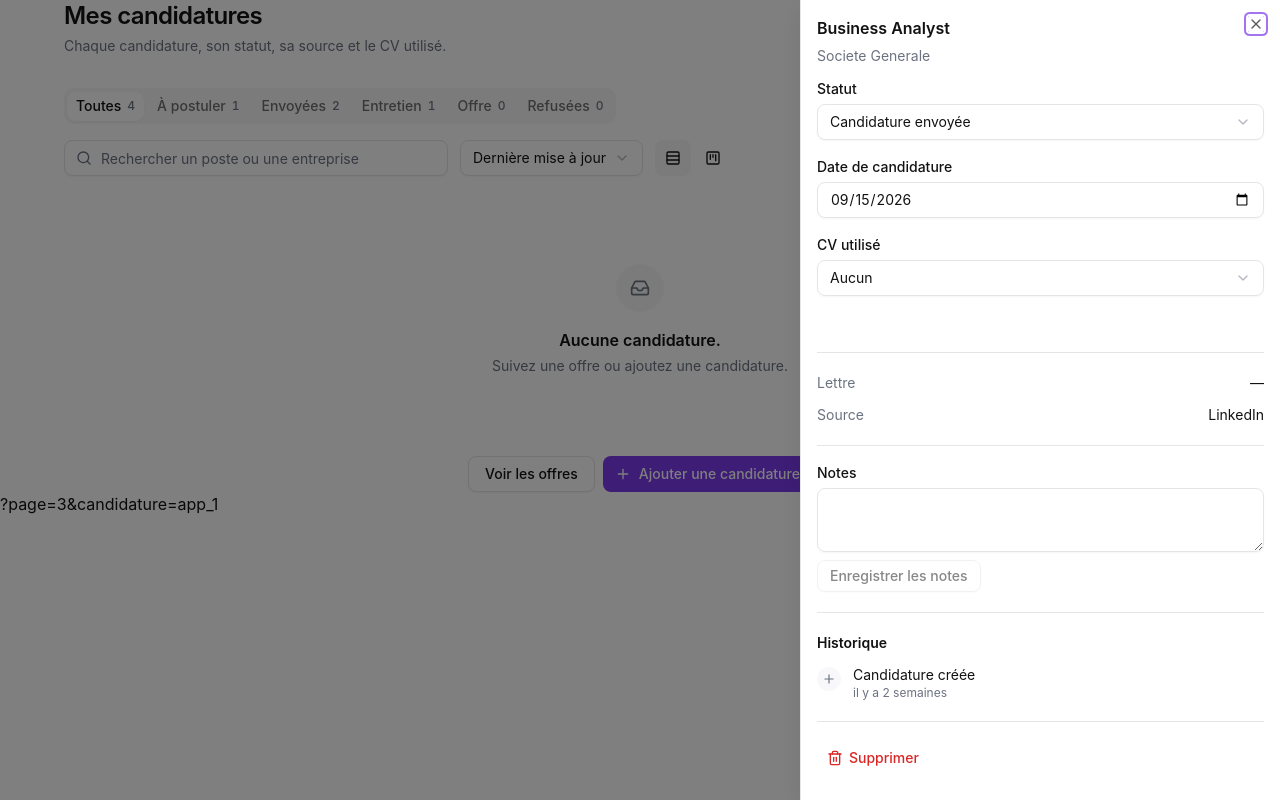
Test: ApplicationsPage › la page consultee est conservee en refermant le panneau de detail
Expected: the heading "Business Analyst" is shown, [817,18,950,38]
Click the button named "Fermer": click(1256, 24) [1248,16,1264,32]
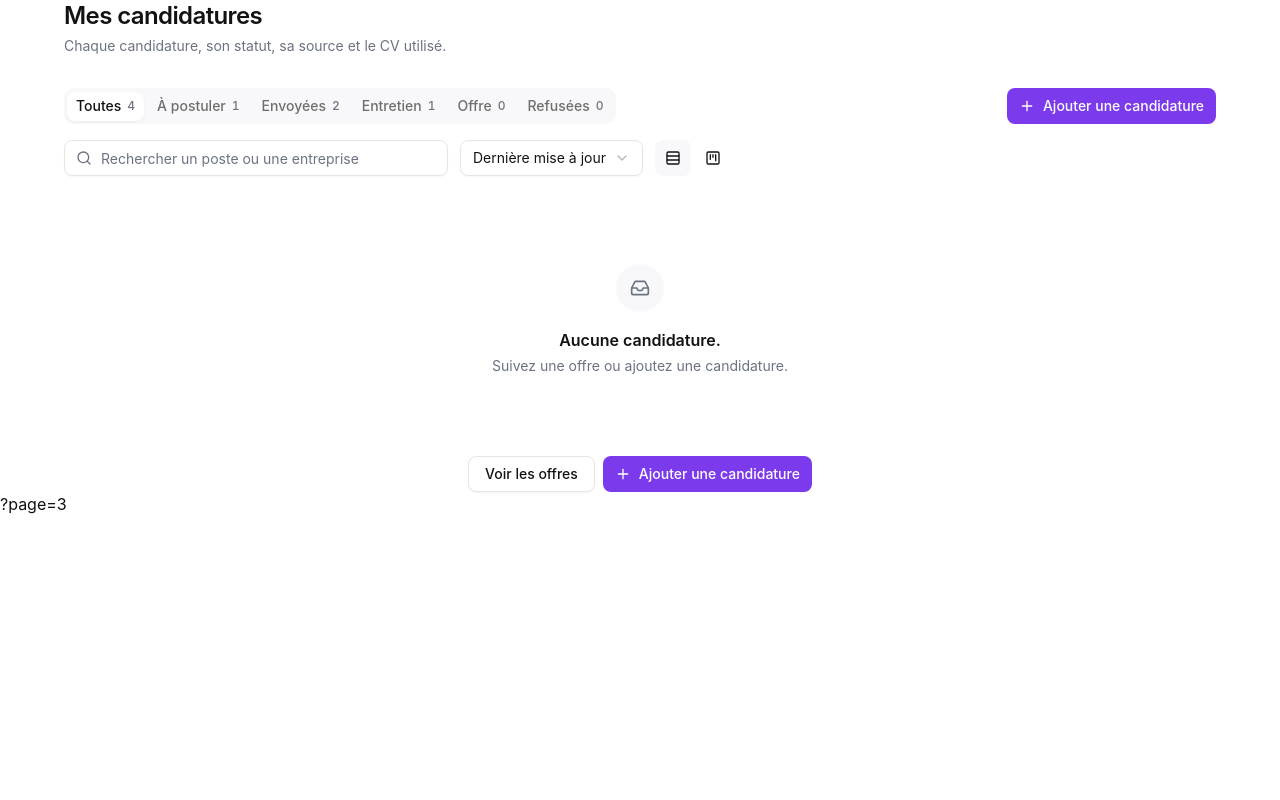
Expected: the text with test id "search" reads "?page=3", [0,494,67,514]
